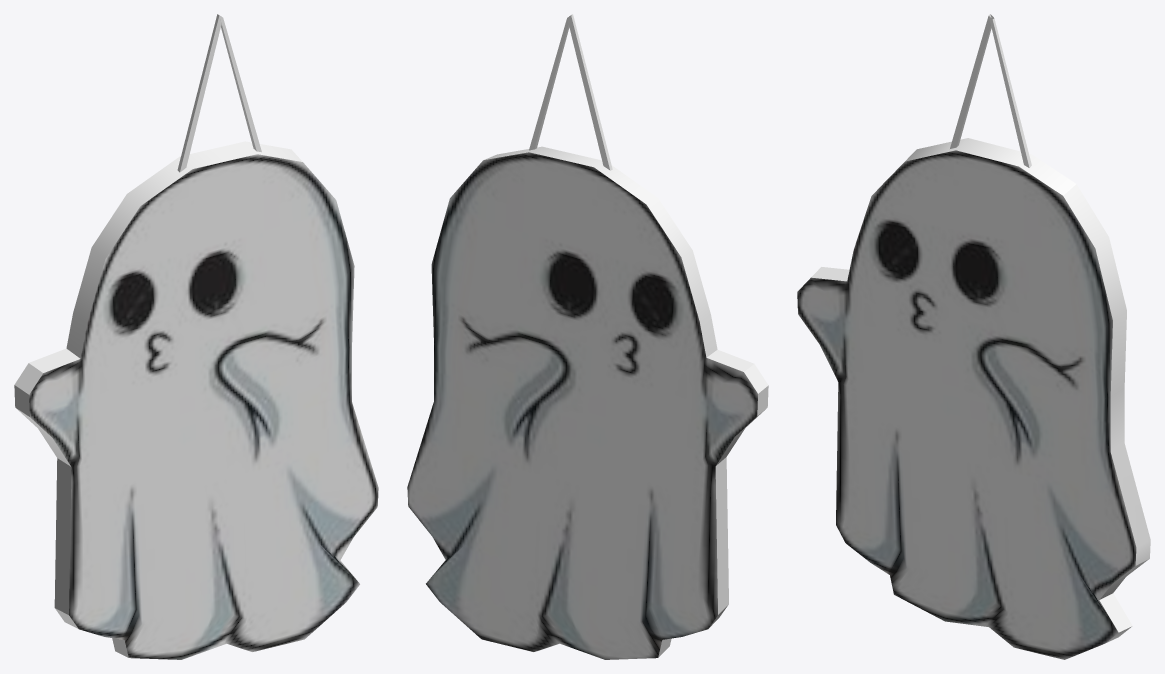
The model's file is duch_1.fbx.
3 views of the same model, side by side, from view 1: azimuth 30°, elevation 25°; view 2: azimuth 150°, elevation 25°; view 3: azimuth 330°, elevation 25° (orthographic). The views are drawn at different scales.
Visible parts, largest first — view 1: Plane; view 2: Plane; view 3: Plane.
Boxes of the visible parts, <box> form: Plane: <box>14,14,378,659</box>; Plane: <box>407,14,768,659</box>; Plane: <box>797,14,1150,659</box>.
Bounding box in the file's own units: 113 × 196 × 7.02.
